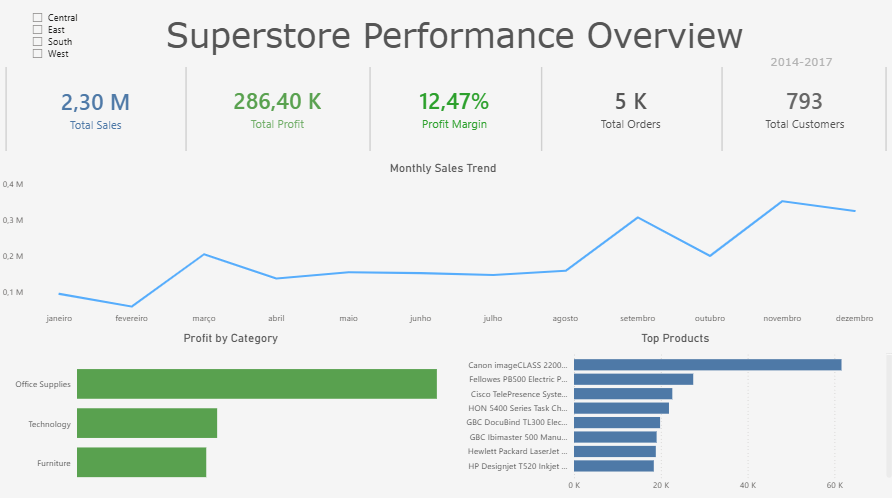

Layout of this report page (visuals, bound fields, positions):
{"tool":"powerbi","page":{"name":"Executive","canvas":[1280,720],"ordinal":0},"visuals":[{"type":"cardVisual","fields":{"Data":["clean_orders.Total Sales"]},"box":[16.3,64,245.8,199.3],"z":0},{"type":"cardVisual","fields":{"Data":["clean_orders.Total Customers"]},"box":[1036.1,62.9,231.2,200.5],"z":1000},{"type":"cardVisual","fields":{"Data":["clean_orders.Profit Margin"]},"box":[533.1,63.3,236.5,200.6],"z":2000},{"type":"cardVisual","fields":{"Data":["clean_orders.Total Orders"]},"box":[781.5,62.9,242.9,200.5],"z":3000},{"type":"cardVisual","fields":{"Data":["clean_orders.Total Profit"]},"box":[274.1,63.3,247.1,200.6],"z":4000},{"type":"shape","box":[264.9,103.6,5.9,120],"z":5000},{"type":"shape","box":[4.4,103.6,11.7,120],"z":6000},{"type":"shape","box":[1030.2,103.9,5.9,120],"z":7000},{"type":"shape","box":[1264.4,103.9,5.9,120],"z":8000},{"type":"shape","box":[768.3,103.6,13.2,120],"z":9000},{"type":"shape","box":[526.8,103.6,5.9,120],"z":10000},{"type":"lineChart","title":"Monthly Sales Trend","fields":{"Category":["clean_orders.order_date.Variação.Hierarquia de Datas.Mês"],"Y":["clean_orders.Total Sales"]},"box":[0,238.5,1268.8,242.9],"z":11000},{"type":"textbox","box":[105.4,24.9,1090.2,89.3],"z":12000},{"type":"clusteredBarChart","title":"Profit by Category","fields":{"Category":["product_performance.category"],"Y":["CountNonNull(product_performance.total_profit)"]},"box":[11.7,481.5,639.5,238.5],"z":13000},{"type":"barChart","title":"Top Products","fields":{"Category":["product_performance.product_name"],"Y":["Sum(product_performance.total_sales)"]},"box":[651.2,481.5,629.3,238.5],"z":14000},{"type":"slicer","fields":{"Values":["clean_orders.region"]},"box":[35.1,20.5,362.9,83.4],"z":15000}]}

Visuals, with their boxes in screenshot pixels (x1, y1, x2, y2), scaled from the page's 1280x720 canvas onto the 892x498 screenshot:
cardVisual - clean_orders.Total Sales: BBox(11, 44, 183, 182)
cardVisual - clean_orders.Total Customers: BBox(722, 44, 883, 182)
cardVisual - clean_orders.Profit Margin: BBox(372, 44, 536, 183)
cardVisual - clean_orders.Total Orders: BBox(545, 44, 714, 182)
cardVisual - clean_orders.Total Profit: BBox(191, 44, 363, 183)
shape: BBox(185, 72, 189, 155)
shape: BBox(3, 72, 11, 155)
shape: BBox(718, 72, 722, 155)
shape: BBox(881, 72, 885, 155)
shape: BBox(535, 72, 545, 155)
shape: BBox(367, 72, 371, 155)
"Monthly Sales Trend" lineChart: BBox(0, 165, 884, 333)
textbox: BBox(73, 17, 833, 79)
"Profit by Category" clusteredBarChart: BBox(8, 333, 454, 497)
"Top Products" barChart: BBox(454, 333, 891, 497)
slicer - clean_orders.region: BBox(24, 14, 277, 72)
